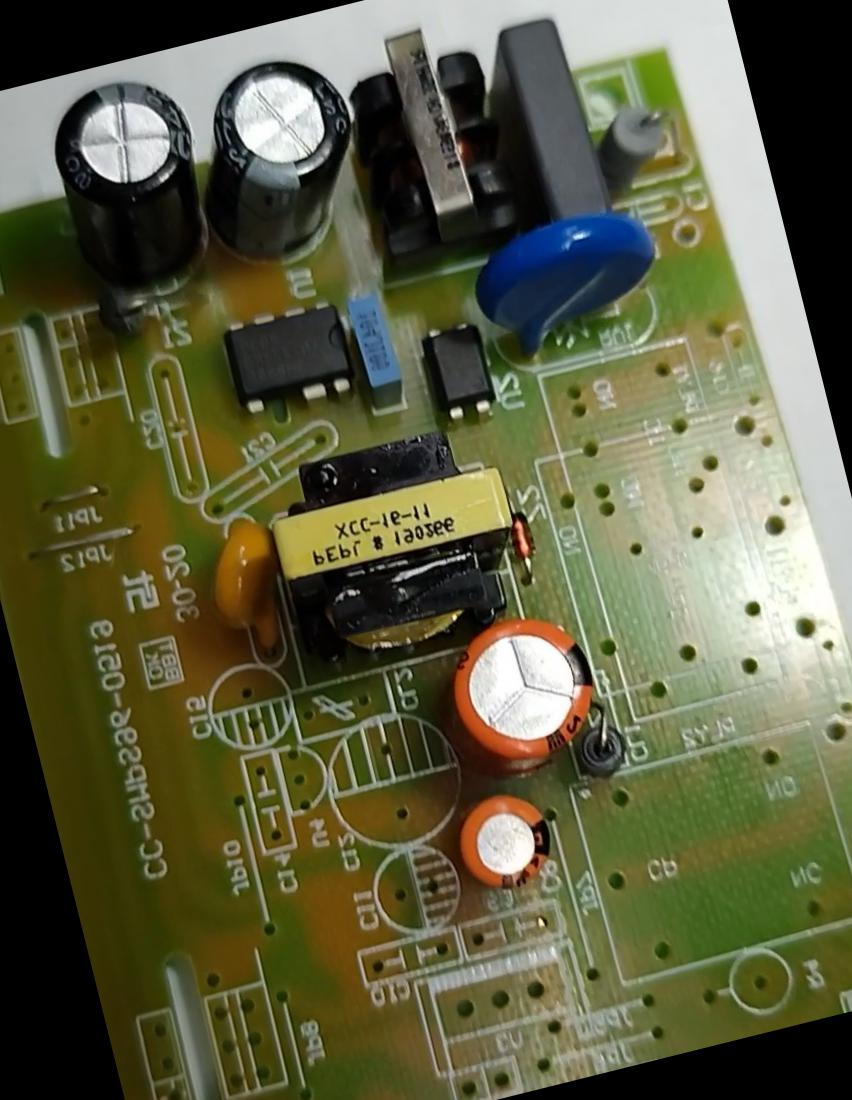Cap1: (432, 592, 616, 788)
Cap2: (444, 782, 564, 905)
Cap3: (176, 44, 387, 277)
Cap4: (34, 60, 230, 306)
MOSFET: (210, 285, 364, 428)
Mov: (463, 192, 680, 374)
Resistor: (589, 90, 686, 192)
Transformer: (249, 406, 542, 677), (330, 6, 540, 278)
